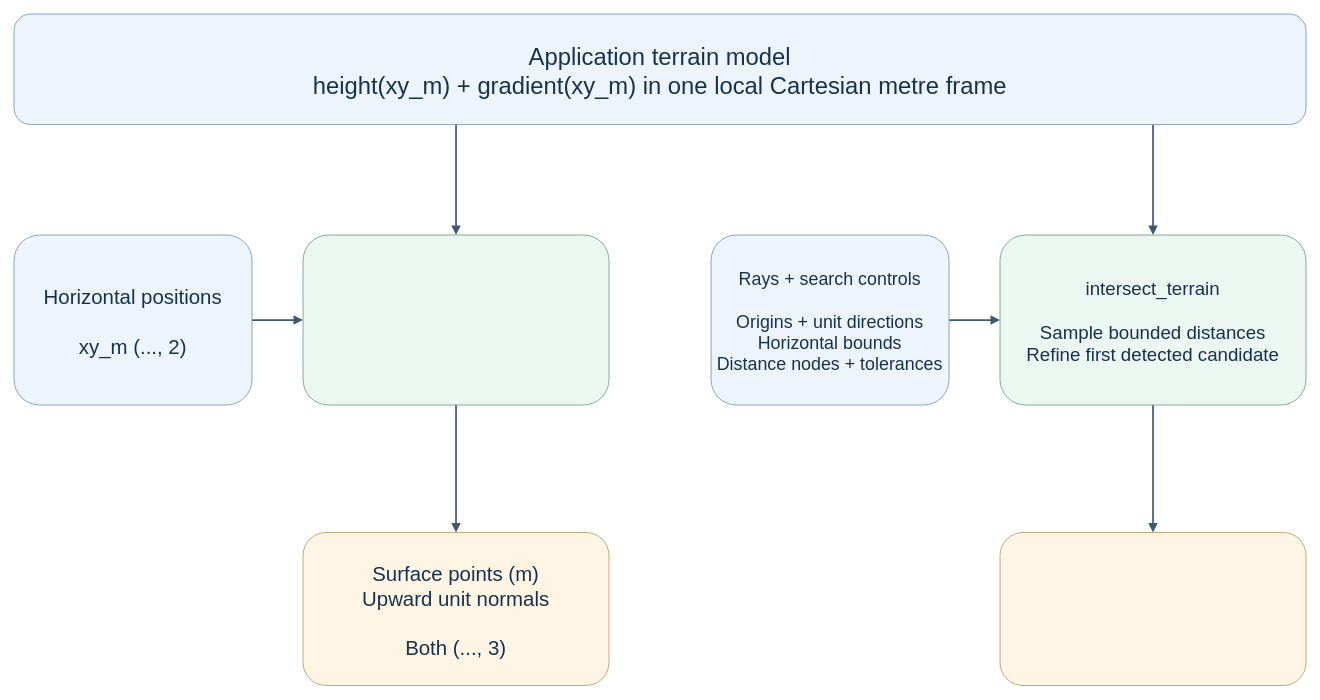
The diagram is 1320 pixels wide and 700 high, and some of its shapes have lost their labels. The shapes that lost their labels are listed below. From the top down, each one's centre as x and y in pixels, then its label:
At point 455,319: "surface_points Evaluate height Normalize surface normal".
At point 1152,609: "Hit mask (...) Intersections (..., 3) in m Misses: false + NaN".
